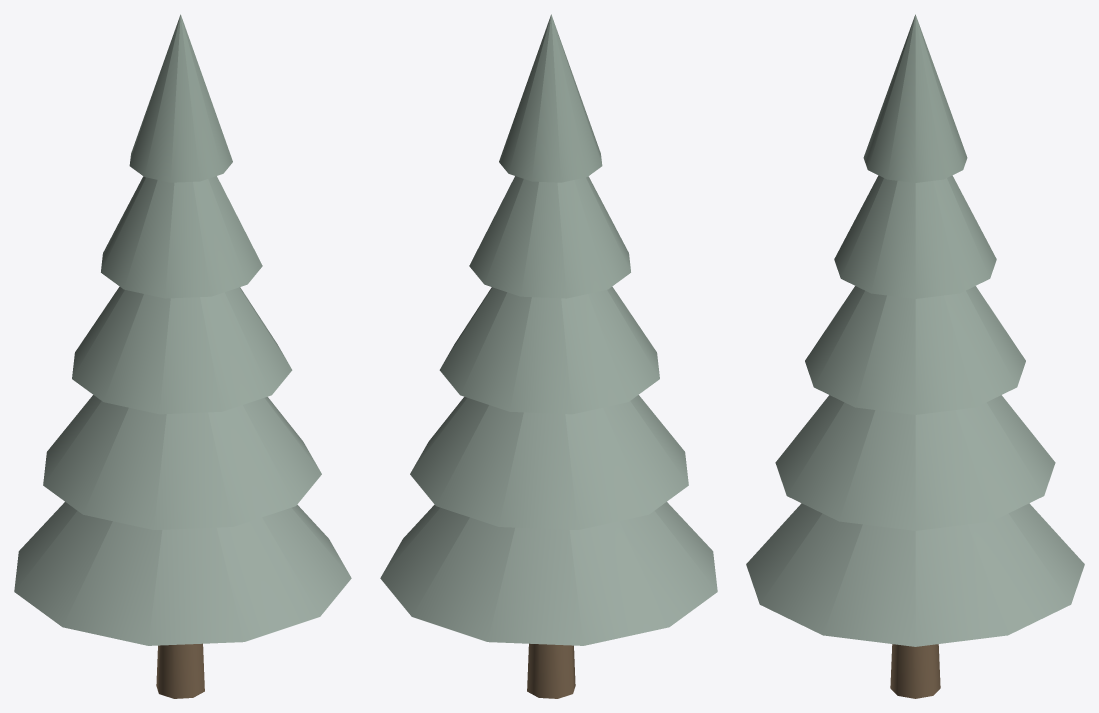
Rendered from snow-pine.gltf.
3 views of the same model, side by side, from view 1: azimuth 30°, elevation 25°; view 2: azimuth 150°, elevation 25°; view 3: azimuth 270°, elevation 25° (orthographic).
Visible parts, largest first — view 1: snow-pine; view 2: snow-pine; view 3: snow-pine.
Boxes of the visible parts, left/top/right/bottom form: snow-pine: left=14, top=14, right=351, bottom=698; snow-pine: left=380, top=14, right=717, bottom=698; snow-pine: left=746, top=14, right=1084, bottom=698.
Bounding box in the file's own units: 2.94 × 6.52 × 2.97.
